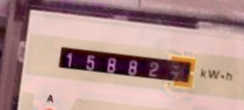1: (63, 50, 74, 67)
2: (147, 60, 159, 78)
5: (84, 53, 96, 70)
7: (168, 69, 179, 81)
8: (105, 56, 117, 74), (126, 58, 138, 76)
screen: (50, 37, 202, 94)
